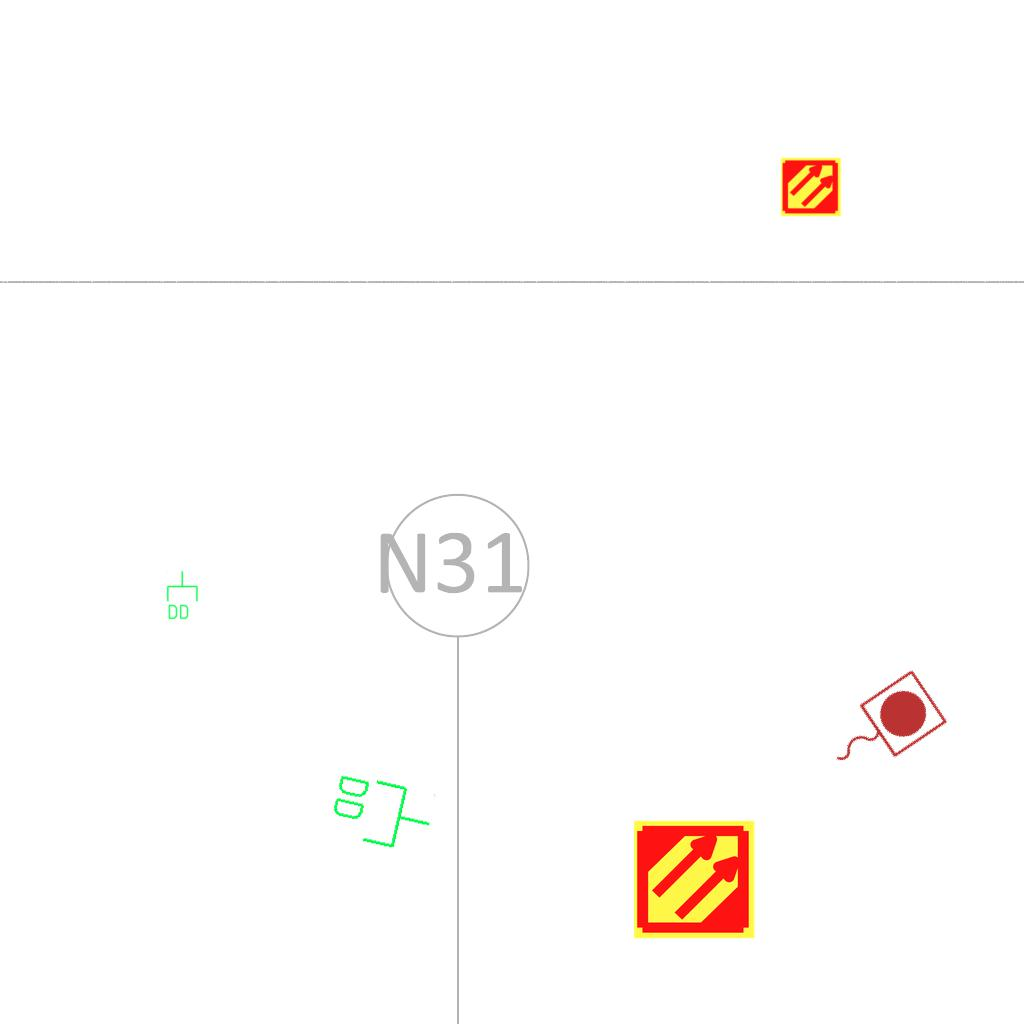ASR_Ansaugrauchmelder: (632, 817, 757, 942), (780, 156, 842, 218)
Datenanschluss_zweifach: (323, 767, 440, 858), (165, 570, 199, 621)
Zugtaster: (811, 663, 953, 791)
